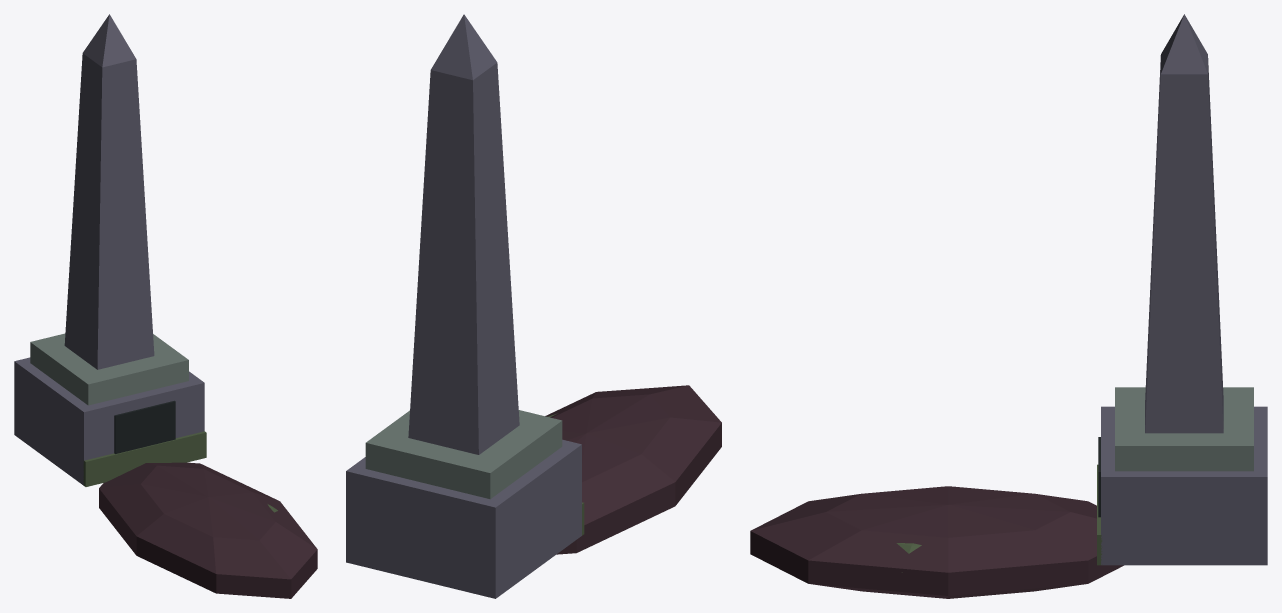
The model's file is mormant_3.glb.
3 views of the same model, side by side, from view 1: azimuth 30°, elevation 25°; view 2: azimuth 150°, elevation 25°; view 3: azimuth 270°, elevation 25° (orthographic). The views are drawn at different scales.
Visible parts, largest first — view 1: Mormant; view 2: Mormant; view 3: Mormant.
Part boxes in pixels (x1,y1,x2,y2): Mormant: (14,14,317,598); Mormant: (346,14,721,598); Mormant: (750,14,1267,598).
Size of the model in its own units: 0.7133 by 2.25 by 1.86.
